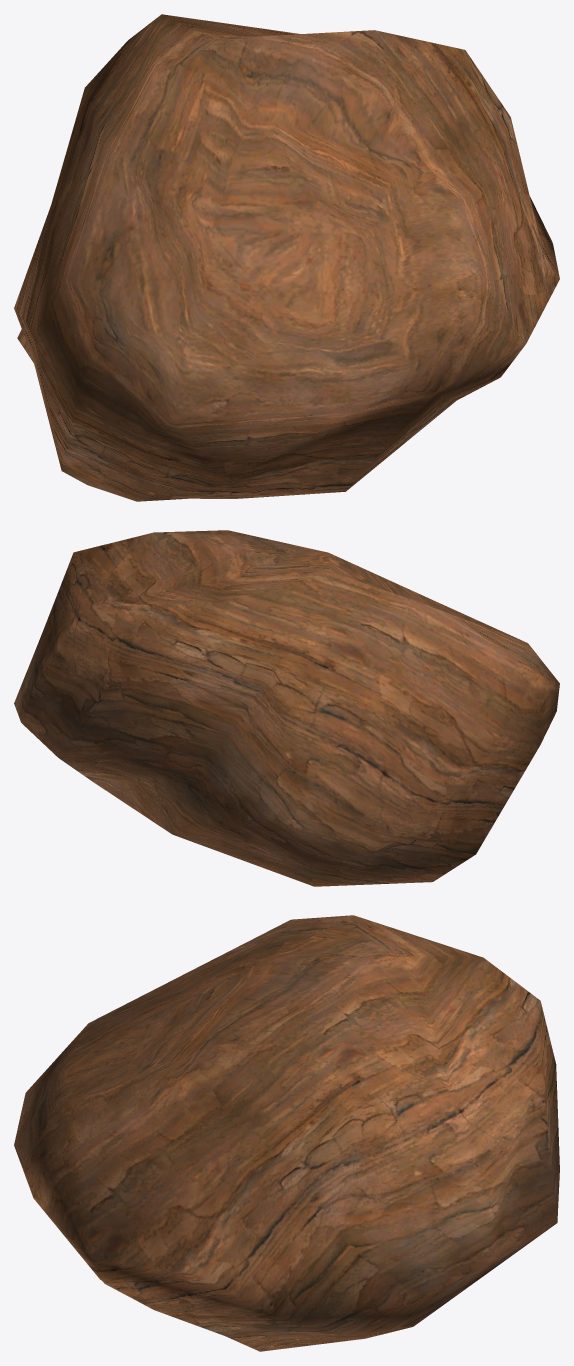
Rendered from rock_tatt_jundland_boulder_a3_l2.fbx.
3 views of the same model, one above another, from view 1: azimuth 30°, elevation 25°; view 2: azimuth 150°, elevation 25°; view 3: azimuth 270°, elevation 25° (orthographic). The views are drawn at different scales.
Visible parts, largest first — view 1: mesh_node; view 2: mesh_node; view 3: mesh_node.
Part boxes in pixels (x1,y1,x2,y2): mesh_node: (14, 14, 559, 501); mesh_node: (14, 530, 559, 886); mesh_node: (14, 915, 559, 1351).
Bounding box in the file's own units: 2.43 × 1.74 × 2.21.
